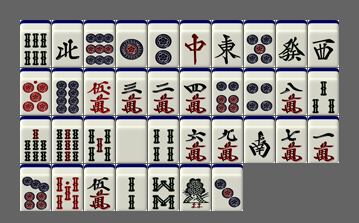0m: (84, 68, 115, 115)
0p: (20, 68, 51, 115)
0s: (52, 164, 83, 211)
1m: (308, 116, 339, 163)
1p: (116, 20, 147, 67)
1s: (180, 164, 211, 211)
1z: (212, 20, 243, 67)
2m: (148, 68, 179, 115)
2p: (148, 20, 179, 67)
2s: (116, 164, 147, 211)
2z: (244, 116, 275, 163)
3m: (116, 68, 147, 115)
3p: (212, 164, 243, 211)
3s: (308, 68, 339, 115)
3z: (308, 20, 339, 67)
4m: (180, 68, 211, 115)
4p: (244, 68, 275, 115)
4s: (148, 116, 179, 163)
4z: (52, 20, 83, 67)
5m: (84, 164, 115, 211)
5p: (244, 20, 275, 67)
5s: (84, 116, 115, 163)
5z: (116, 116, 147, 163)
6m: (180, 116, 211, 163)
6p: (212, 68, 243, 115)
6s: (20, 20, 51, 67)
6z: (276, 20, 307, 67)
7m: (276, 116, 307, 163)
7p: (20, 164, 51, 211)
7s: (20, 116, 51, 163)
7z: (180, 20, 211, 67)
8m: (276, 68, 307, 115)
8p: (52, 68, 83, 115)
8s: (148, 164, 179, 211)
9m: (212, 116, 243, 163)
9p: (84, 20, 115, 67)
9s: (52, 116, 83, 163)
